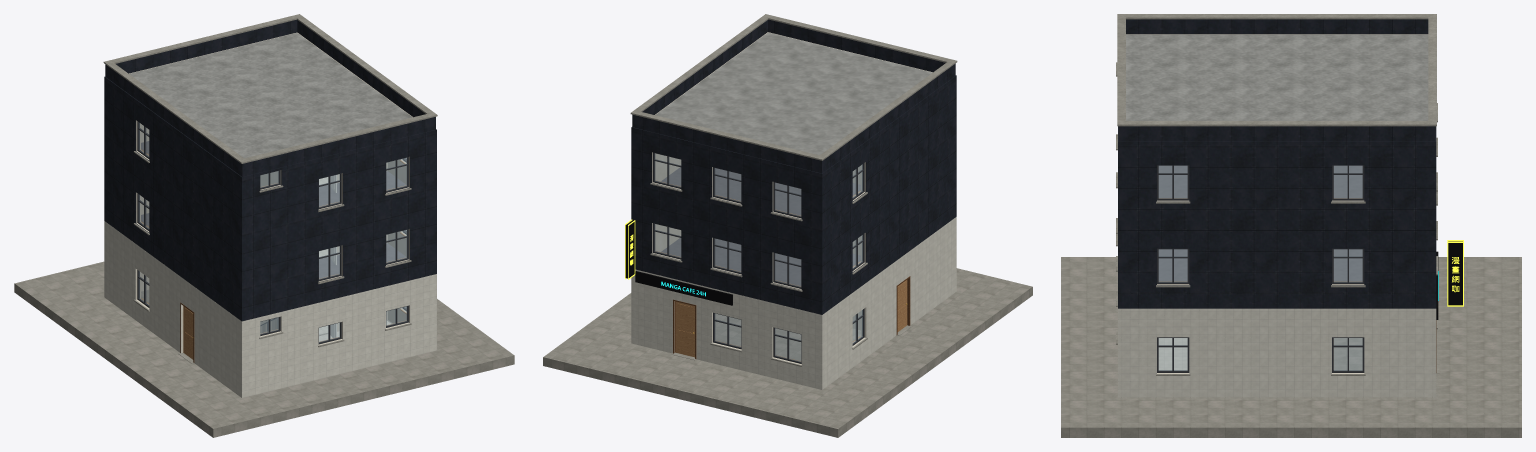
File: b_manga_netcafe.gltf
The picture shows the model from 3 angles, left to right: view 1: azimuth 30°, elevation 25°; view 2: azimuth 150°, elevation 25°; view 3: azimuth 270°, elevation 25°; orthographic projection. The views are drawn at different scales.
Visible parts, largest first — view 1: S_manga_netcafe, D_manga_netcafe_F1_E1_Door0; view 2: S_manga_netcafe, D_manga_netcafe_F1_S2_Door0, D_manga_netcafe_F1_E1_Door0; view 3: S_manga_netcafe.
Part boxes in pixels (box(x1,y1,x2,y2)): S_manga_netcafe: box(14, 14, 514, 437); D_manga_netcafe_F1_E1_Door0: box(183, 306, 193, 359); S_manga_netcafe: box(543, 14, 1032, 437); D_manga_netcafe_F1_S2_Door0: box(675, 301, 694, 357); D_manga_netcafe_F1_E1_Door0: box(897, 280, 907, 331); S_manga_netcafe: box(1061, 14, 1521, 437).
Size of the model in its own units: 14 by 10.86 by 16.
Materials: 18 (10 with a texture image).
